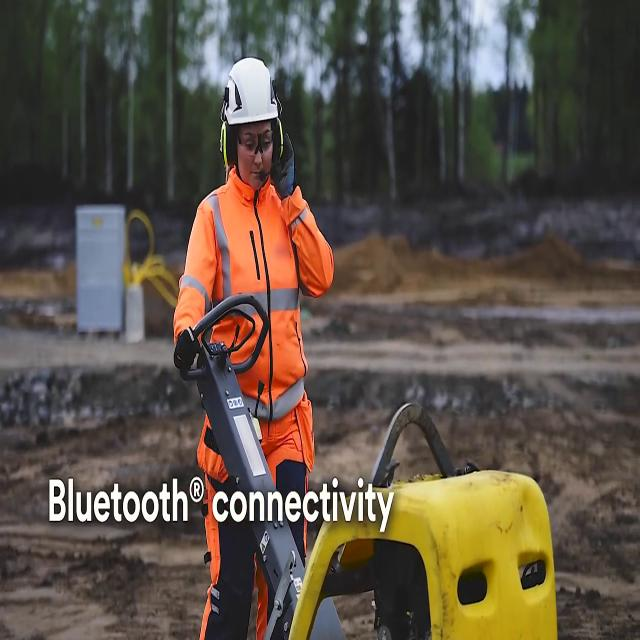earmuff: (220, 118, 238, 170), (270, 115, 286, 167)
glasses: (237, 126, 274, 156)
helmet: (222, 55, 280, 122)
